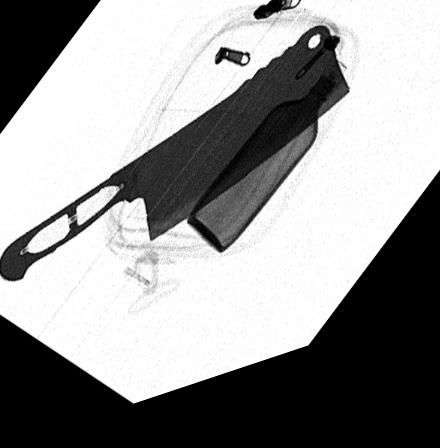Knife: (0, 44, 349, 281)
